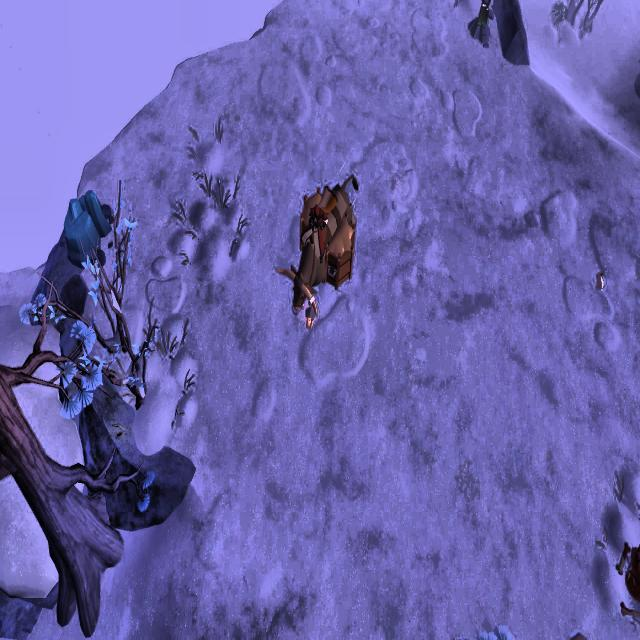ore_t3: (478, 2, 492, 33)
rock_t4: (56, 186, 118, 264)
